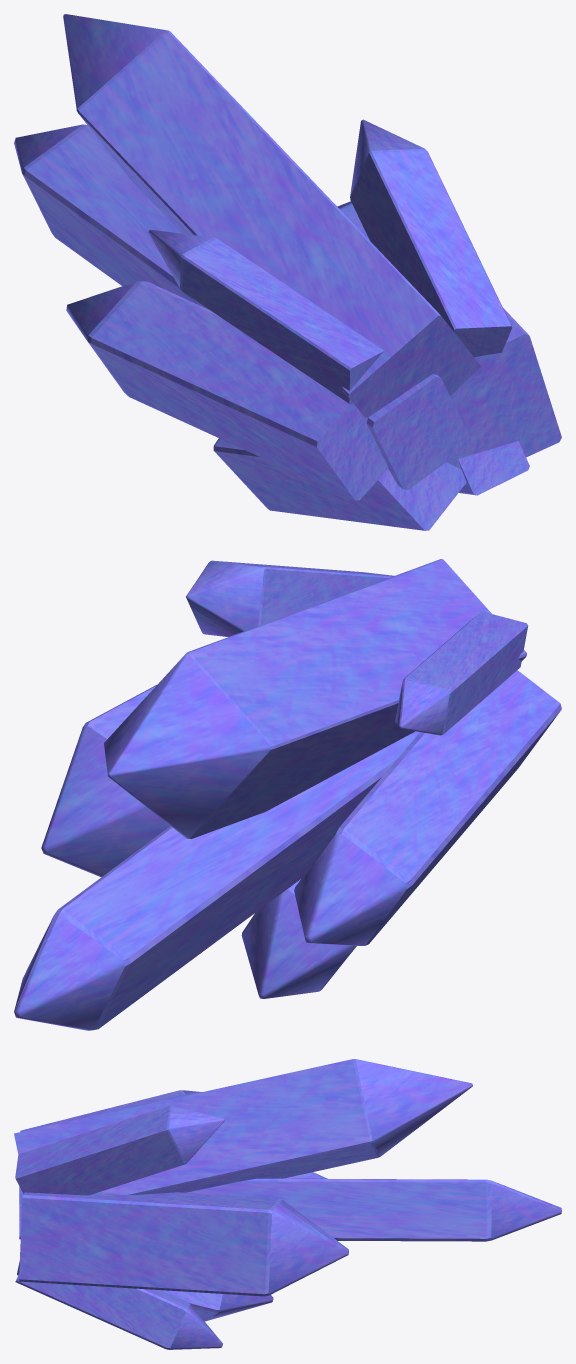
File: crystal.obj
The picture shows the model from 3 angles, top to bottom: view 1: azimuth 30°, elevation 25°; view 2: azimuth 150°, elevation 25°; view 3: azimuth 270°, elevation 25°; orthographic projection. The views are drawn at different scales.
Visible parts, largest first — view 1: CrystalCrack; view 2: CrystalCrack; view 3: CrystalCrack.
Part boxes in pixels (x1,y1,x2,y2): CrystalCrack: (14, 14, 561, 530); CrystalCrack: (14, 559, 561, 1030); CrystalCrack: (14, 1059, 561, 1349).
Bounding box in the file's own units: 23.69 × 26.86 × 50.46.
Materials: 2 (1 with a texture image).
